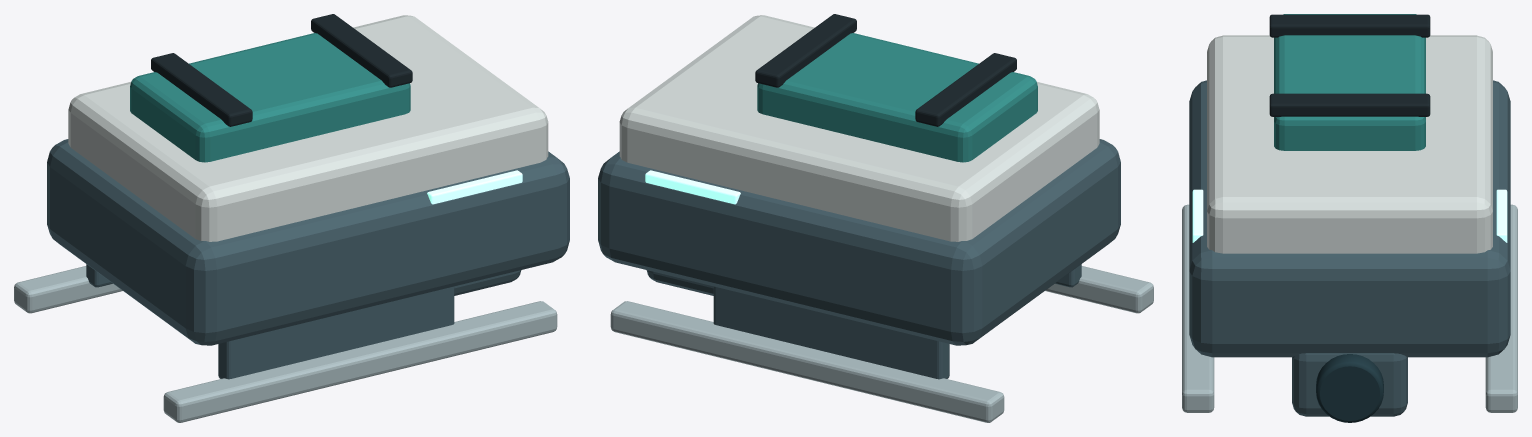
Rendered from drone-body.glb.
3 renders of one model, left to right at view 1: azimuth 30°, elevation 25°; view 2: azimuth 150°, elevation 25°; view 3: azimuth 270°, elevation 25°, orthographic.
Visible parts, largest first — view 1: Flight computer.003, Aerodynamic shell.003, Battery.003, Landing skid.003, Battery strap.003, Navigation light.003; view 2: Flight computer.003, Aerodynamic shell.003, Battery.003, Landing skid.003, Battery strap.003, Navigation light.003; view 3: Aerodynamic shell.003, Flight computer.003, Battery.003, Battery strap.003, Landing skid.003, Optical lens.003, Navigation light.003.
Part boxes in pixels (x1,y1,x2,y2): Flight computer.003: (47,139,569,379); Aerodynamic shell.003: (68,15,548,241); Battery.003: (130,33,410,162); Landing skid.003: (14,266,557,422); Battery strap.003: (151,14,412,126); Navigation light.003: (427,170,522,204); Flight computer.003: (598,139,1120,379); Aerodynamic shell.003: (619,15,1099,241); Battery.003: (757,33,1037,162); Landing skid.003: (610,266,1153,422); Battery strap.003: (755,14,1016,126); Navigation light.003: (645,170,740,204); Aerodynamic shell.003: (1207,35,1492,253); Flight computer.003: (1189,80,1510,416); Battery.003: (1274,14,1425,150); Battery strap.003: (1269,14,1430,116); Landing skid.003: (1182,204,1517,412); Optical lens.003: (1316,354,1383,422); Navigation light.003: (1192,189,1507,242).
Bounding box in the file's own units: 0.276 × 0.16 × 0.188.
